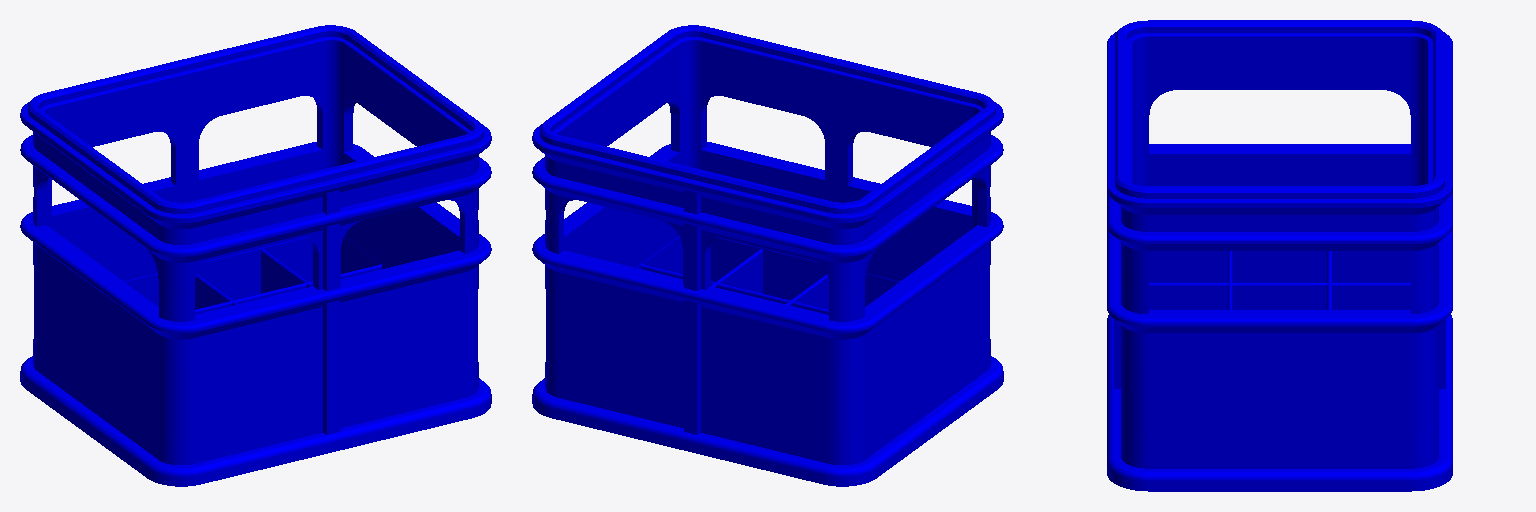
URDF robot description (blue_cube):
<?xml version="1.0" ?>
<robot name="blue_cube">
  <link name="base_link">
    <inertial>
      <origin rpy="0.0 0.0 0.0" xyz="0.0 0.0 0.0"/>
      <mass value="0.1"/>
      <inertia ixx="4.166666666666668e-05" ixy="0.0" ixz="0.0" iyy="4.166666666666668e-05" iyz="0.0" izz="4.166666666666668e-05"/>
    </inertial>
    <visual>
      <origin rpy="0.0 0.0 0.0" xyz="0.0 0.0 0.025"/>
      <geometry>
        <mesh filename="package://kr210_description/meshes/boxes/box.stl" scale="0.005 0.005 0.005"/>
      </geometry>
      <material name="blue">
        <color rgba="0 0 1 1"/>
      </material>
    </visual>
    <collision>
      <origin rpy="0.0 0.0 0.0" xyz="0.0 0.0 0.025"/>
      <geometry>
        <mesh filename="package://kr210_description/meshes/boxes/box.stl" scale="0.005 0.005 0.005"/>
      </geometry>
    </collision>
  </link>
  <gazebo reference="base_link">
    <material>Gazebo/Blue</material>
  </gazebo>
</robot>

--- What the picture shows (computed from the rendered views, not written in the file) ---
The picture shows the robot from 3 angles, left to right: view 1: azimuth 30°, elevation 25°; view 2: azimuth 150°, elevation 25°; view 3: azimuth 270°, elevation 25°; orthographic projection.
Robot: blue_cube — 1 links, 0 joints (none); root link base_link; default pose: all joints at 0.
Visible links, largest first — view 1: base_link; view 2: base_link; view 3: base_link.
Boxes of the visible links, left/top/right/bottom form: base_link: left=20, top=25, right=491, bottom=486; base_link: left=532, top=25, right=1003, bottom=486; base_link: left=1107, top=20, right=1452, bottom=491.
Size in the robot's own frame: 0.4509 by 0.3709 by 0.3525 metres.
Meshes: 1 distinct files referenced, 1 mesh visuals loaded (1 binary STL).